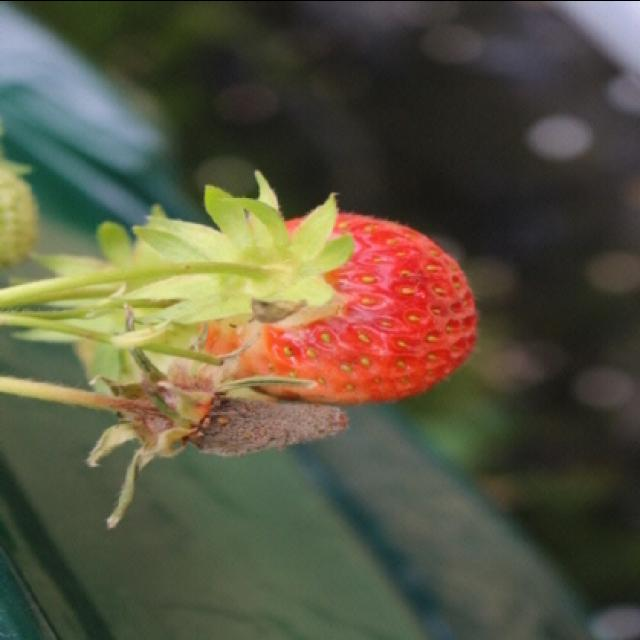Gray Mold: (109, 369, 348, 456)
